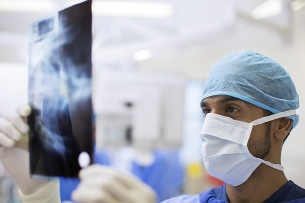Mask: (195, 95, 270, 170)
